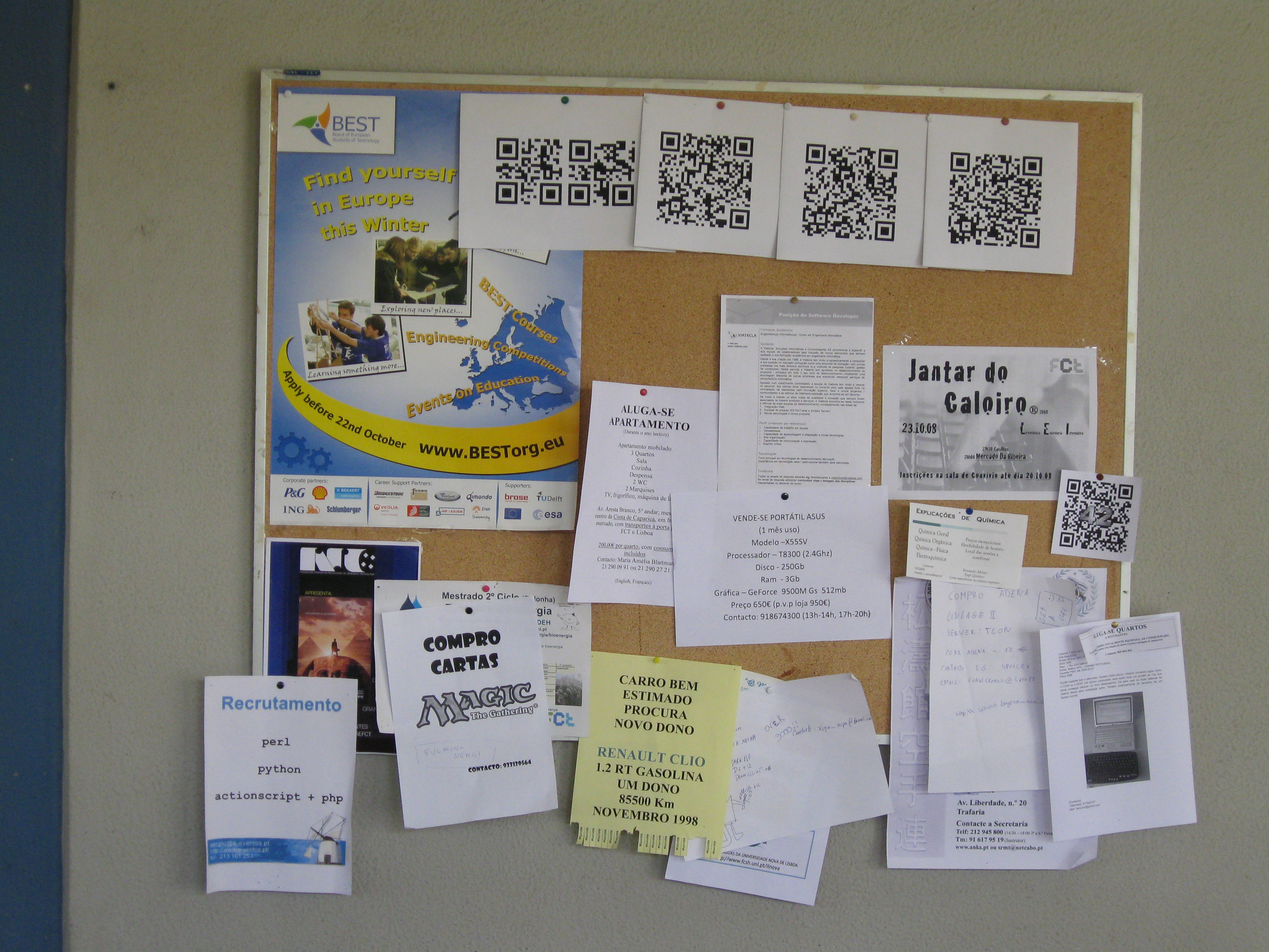QR-CODE: (801, 143, 898, 241), (656, 131, 753, 229), (947, 152, 1042, 248), (1059, 478, 1133, 553), (495, 137, 563, 205), (568, 139, 635, 206)
